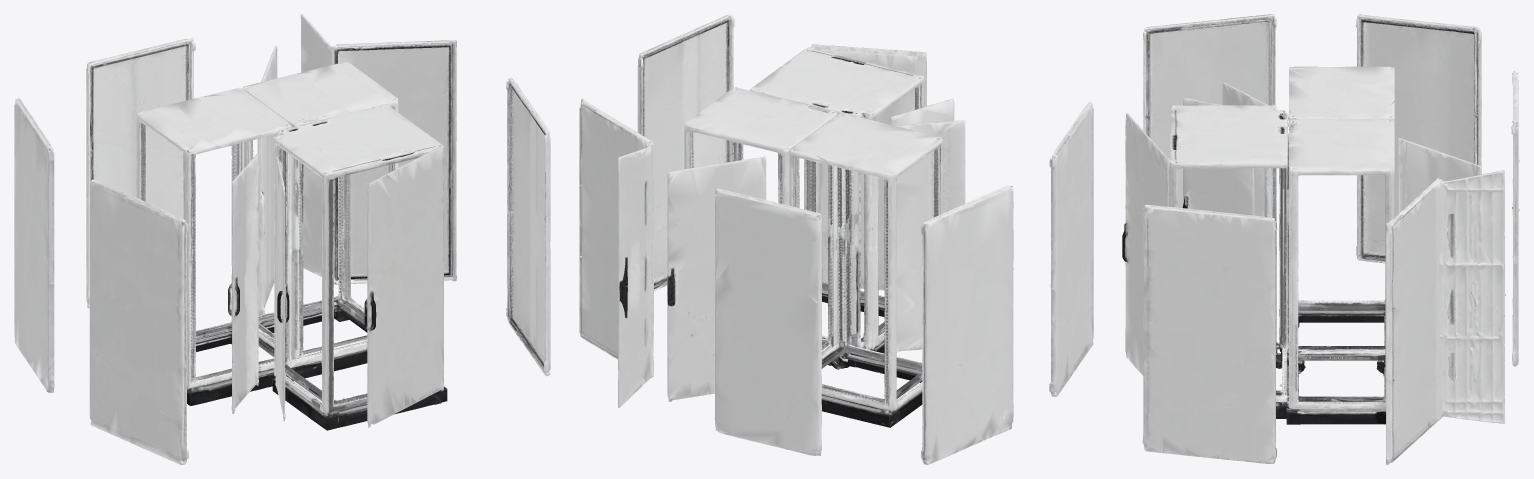
Rendered from steel_web.glb.
3 renders of one model, left to right at view 1: azimuth 30°, elevation 25°; view 2: azimuth 150°, elevation 25°; view 3: azimuth 270°, elevation 25°, orthographic.
Size of the model in its own units: 1.9 by 1.11 by 1.54.
1 material, 1 textured.
